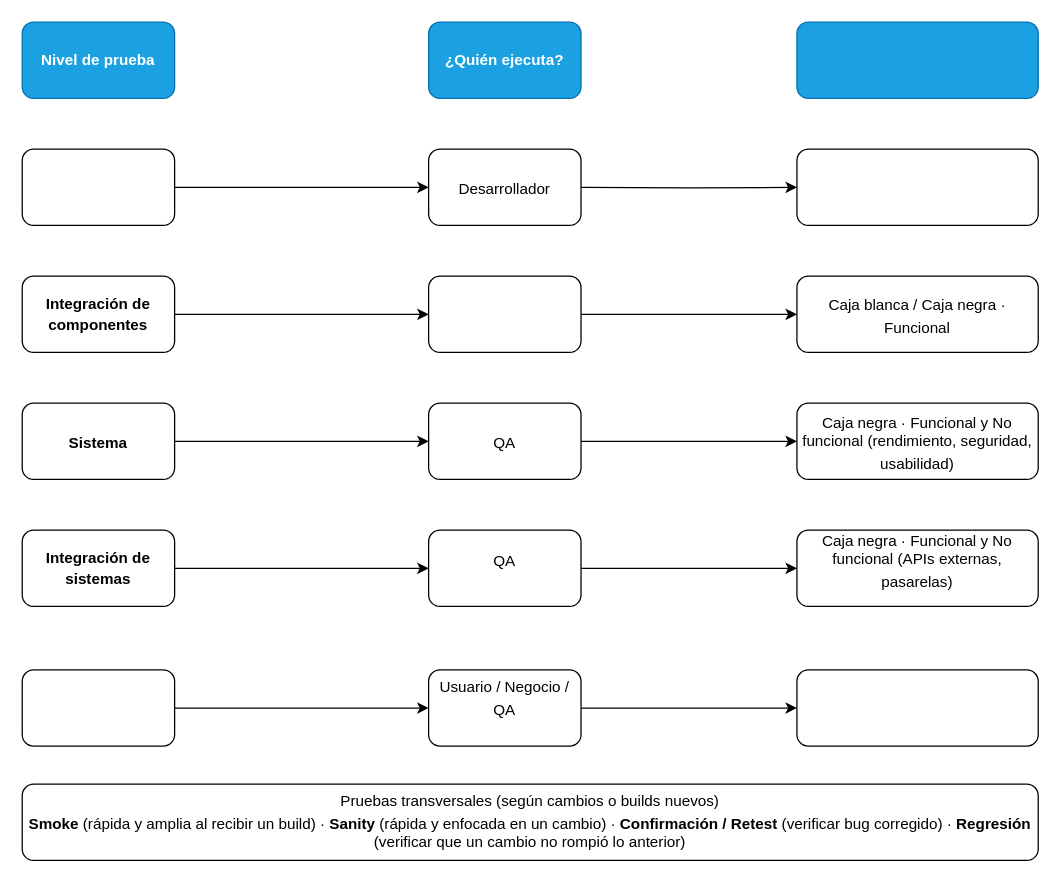
Some shapes in this 1060 by 883 pixel diagram are drawn without their labels. Here are the shapes that lost their labels. From the top down, the centre of each, then its label:
At (917,59): "Tipos de prueba principales".
At (98,186): "Componente (Unitaria)".
At (917,186): "Caja blanca · Funcional".
At (504,313): "Desarrollador / QA".
At (98,707): "Aceptación (UAT, Alfa, Beta)".
At (917,707): "Caja negra · Funcional (validación de negocio)".
